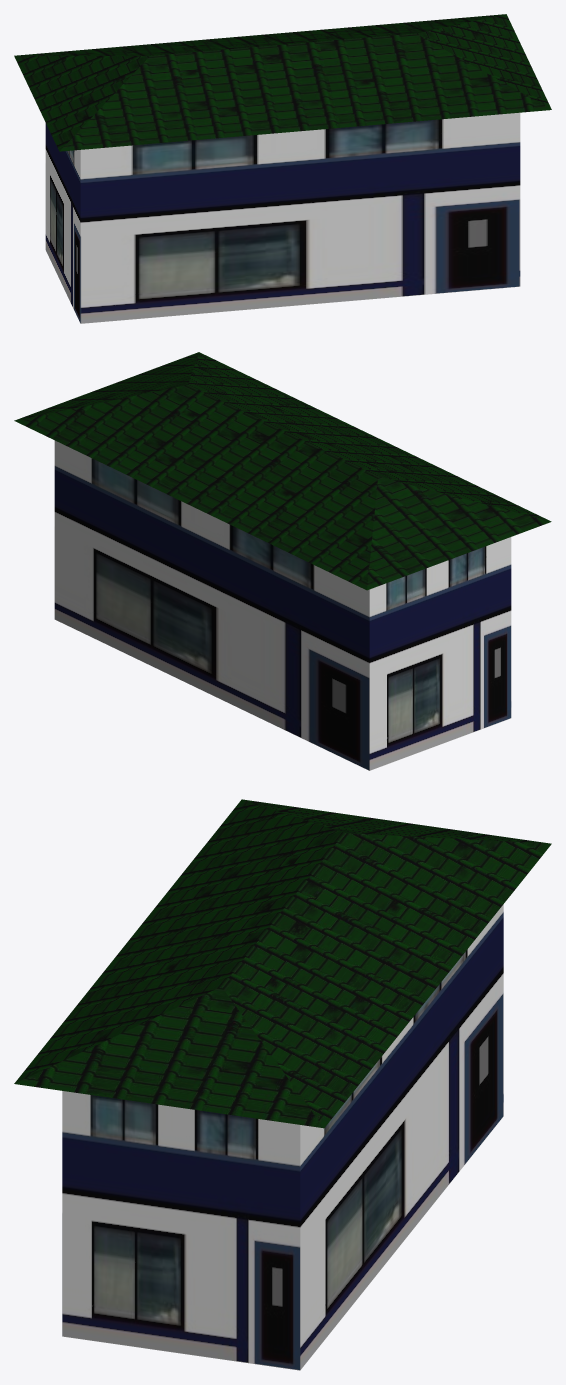
The picture shows the model from 3 angles, top to bottom: view 1: azimuth 30°, elevation 25°; view 2: azimuth 150°, elevation 25°; view 3: azimuth 270°, elevation 25°; orthographic projection. The views are drawn at different scales.
Visible parts, largest first — view 1: CityEngineMaterial_2_m, CityEngineMaterial_13_m; view 2: CityEngineMaterial_2_m, CityEngineMaterial_13_m; view 3: CityEngineMaterial_2_m, CityEngineMaterial_13_m.
Boxes of the visible parts, <box> form: CityEngineMaterial_2_m: <box>45,112,520,323</box>; CityEngineMaterial_13_m: <box>14,14,551,151</box>; CityEngineMaterial_2_m: <box>54,440,511,770</box>; CityEngineMaterial_13_m: <box>14,352,551,590</box>; CityEngineMaterial_2_m: <box>62,904,503,1370</box>; CityEngineMaterial_13_m: <box>14,799,551,1128</box>.
Bounding box in the file's own units: 19.13 × 8.59 × 13.22.
